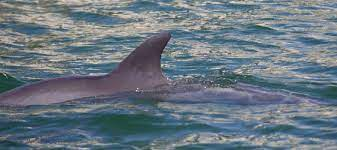fin: (1, 24, 292, 124)
